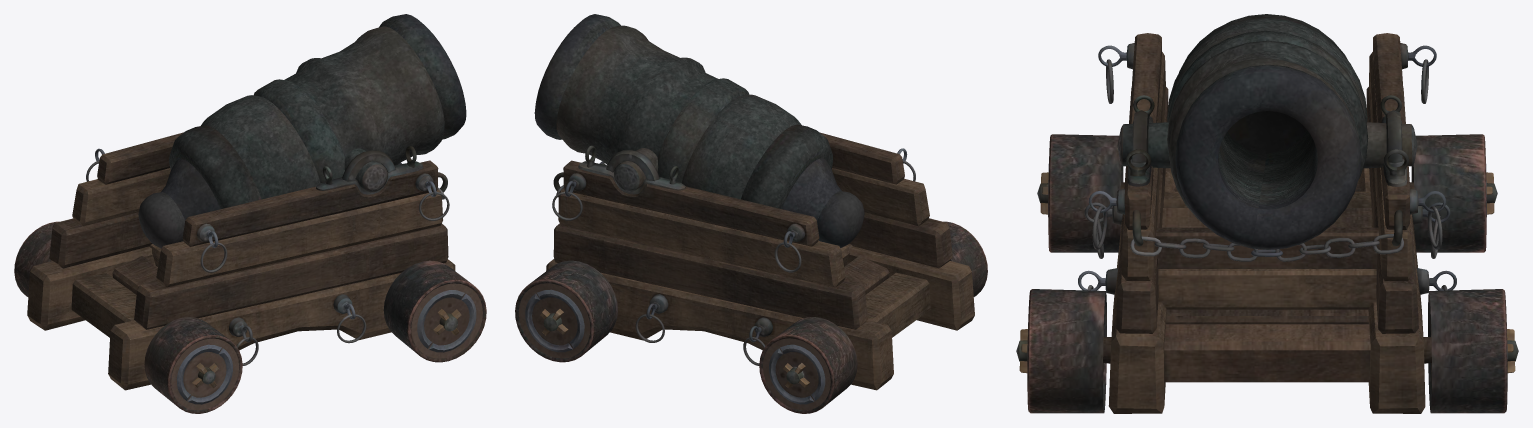
The picture shows the model from 3 angles, left to right: view 1: azimuth 30°, elevation 25°; view 2: azimuth 150°, elevation 25°; view 3: azimuth 270°, elevation 25°; orthographic projection. The views are drawn at different scales.
Parts seen in each view (by area): view 1: mortar_Baked; view 2: mortar_Baked; view 3: mortar_Baked.
Part boxes in pixels (x1=…): mortar_Baked: x1=14, y1=14, x2=486, y2=413; mortar_Baked: x1=515, y1=14, x2=987, y2=413; mortar_Baked: x1=1016, y1=14, x2=1518, y2=413.
Size of the model in its own units: 354 by 242 by 296.
1 material, 1 textured.
